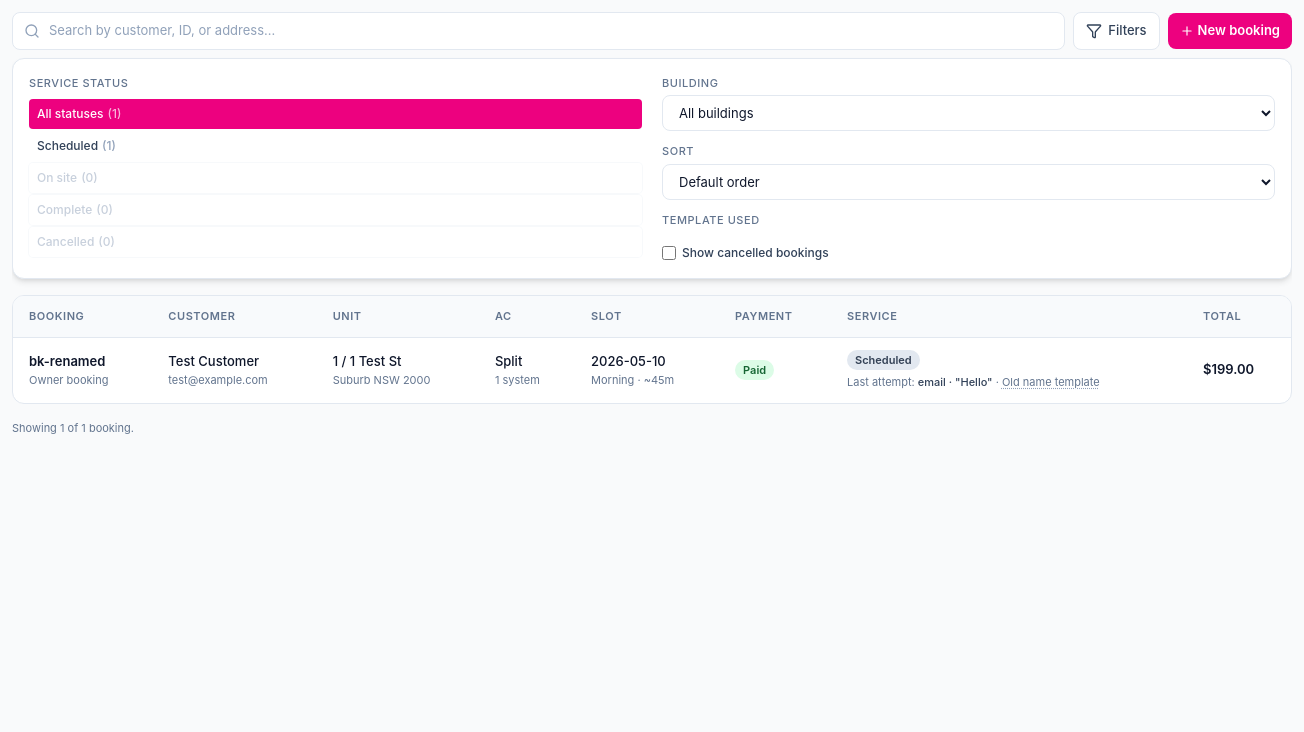
Test: BookingsView — template filter pivot › clearing the chip removes the missing-template hint
Click the button with test id "bookings-row-last-attempt-template" at (1051, 382), box top-left (1002, 374), bottom-right (1100, 390)
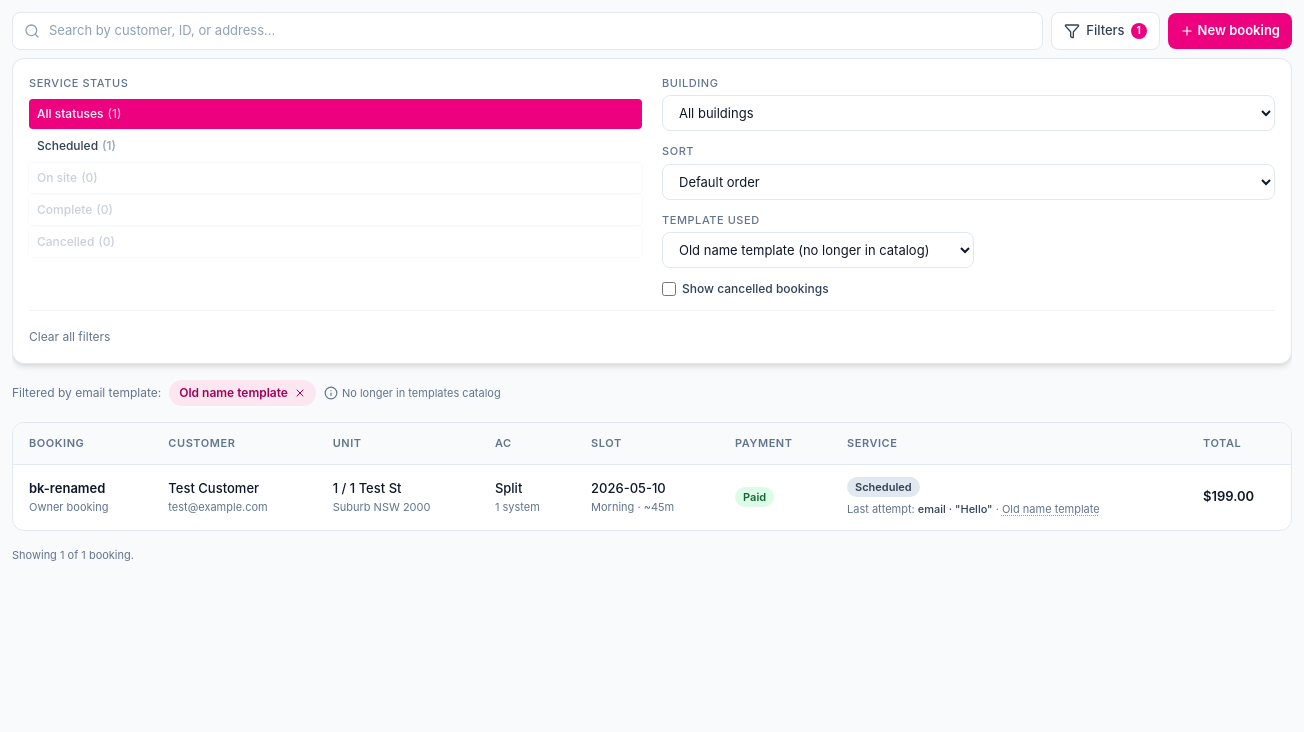
Expected: the picture with test id "bookings-template-filter-missing-hint" is shown, top-left (324, 385), bottom-right (501, 401)
Click the button with test id "button-clear-bookings-template-filter" at (243, 393), box top-left (169, 380), bottom-right (316, 406)
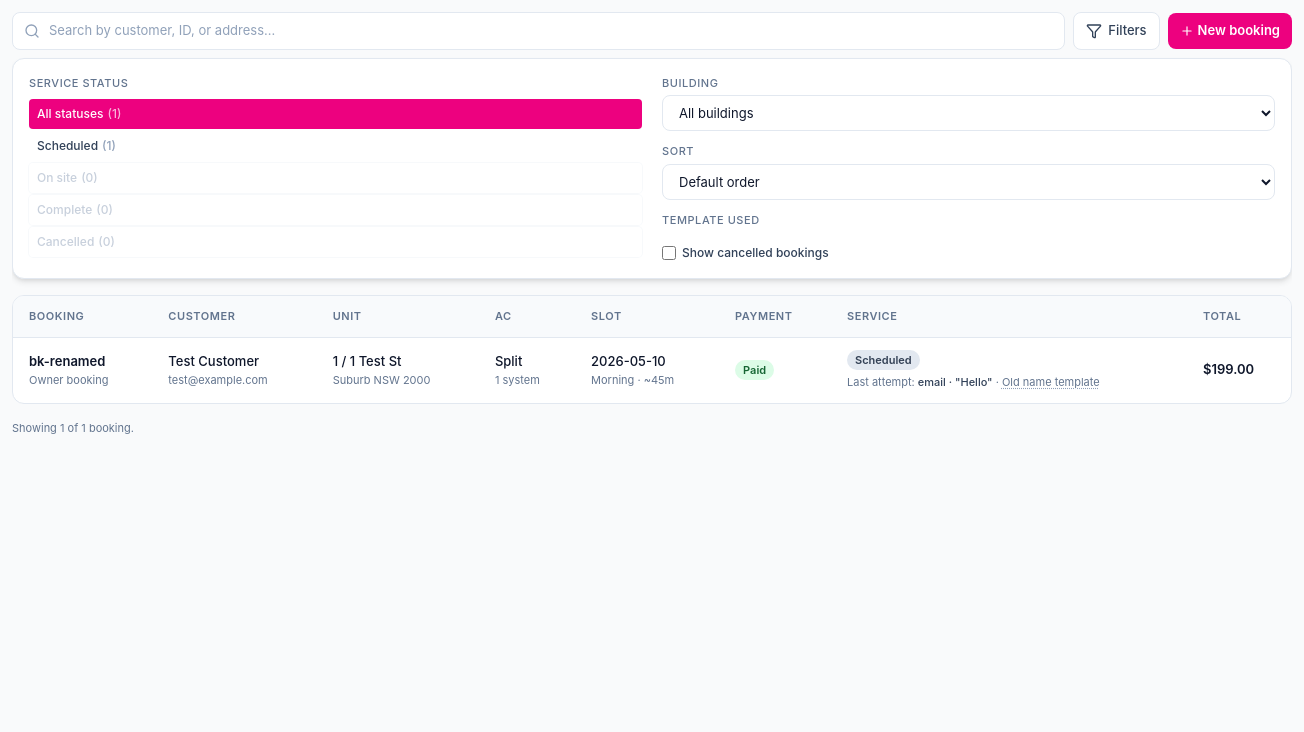
Expected: the element with test id "bookings-template-filter-chip" is gone
Expected: the picture with test id "bookings-template-filter-missing-hint" is gone
